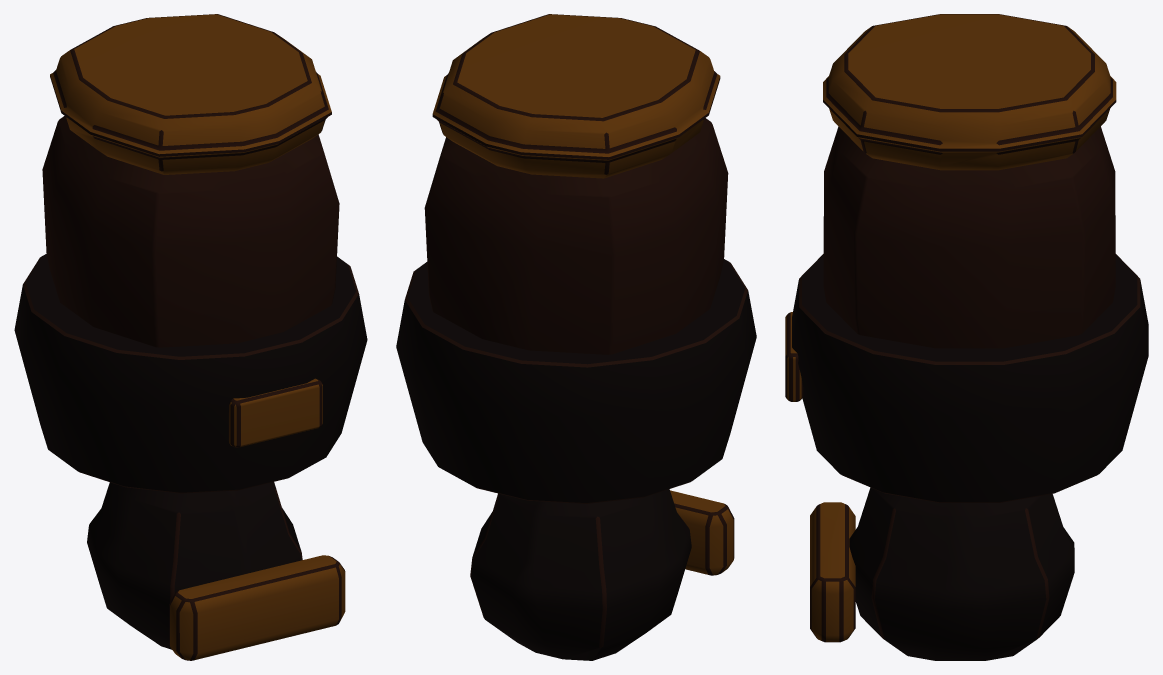
Rendered from Couro_LuvaL.fbx.
3 renders of one model, left to right at view 1: azimuth 30°, elevation 25°; view 2: azimuth 150°, elevation 25°; view 3: azimuth 270°, elevation 25°, orthographic. The views are drawn at different scales.
Visible parts, largest first — view 1: Piece; view 2: Piece; view 3: Piece.
Boxes of the visible parts, x1,y1,x2,y2 form: Piece: (14, 14, 367, 660); Piece: (396, 14, 756, 660); Piece: (785, 14, 1148, 660).
Size of the model in its own units: 0.1962 by 0.3488 by 0.1991.
